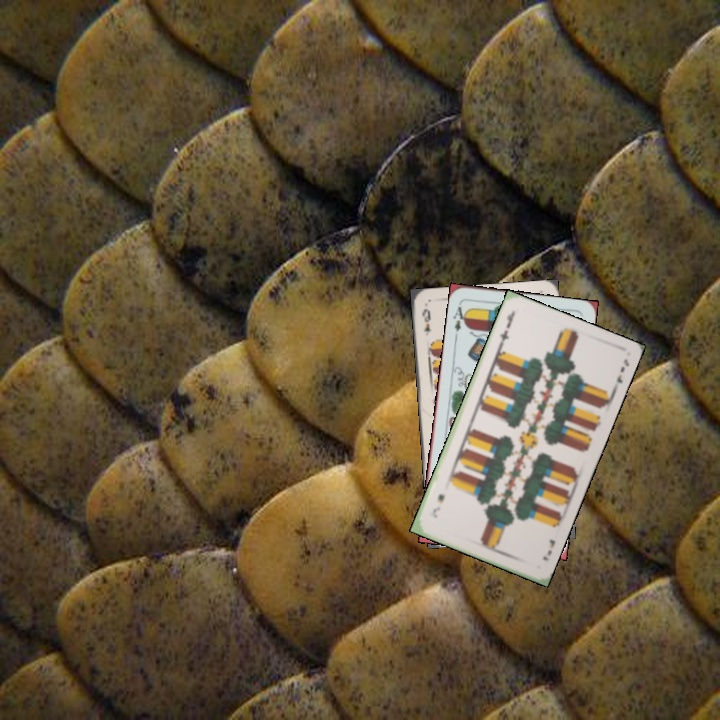E7: (495, 308, 517, 348), (539, 535, 558, 563)
E9: (418, 305, 434, 338)
EA: (449, 299, 470, 334)
